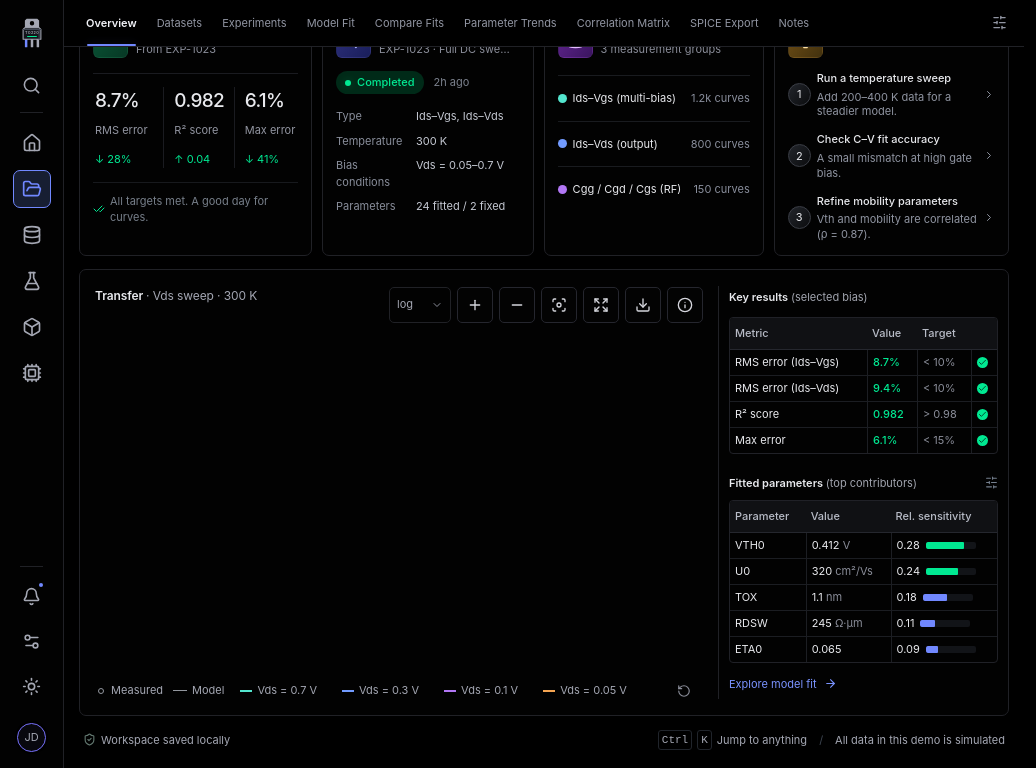
MOSFit workbench › toggles chart series and switches the chart scale
(page scrolled)
Step 1. Click the button "Vds = 0.7 V" → (279, 691), box 234,673 -> 323,709
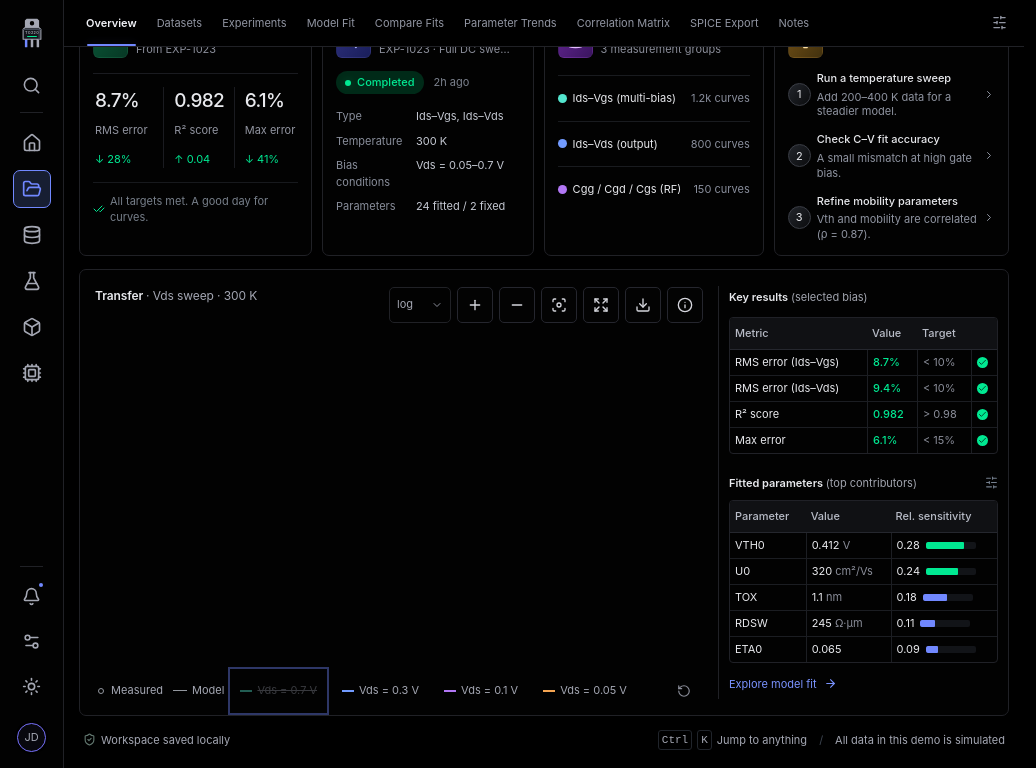
Expected: the button "Vds = 0.7 V" is not pressed
Step 2. Click the button "Vds = 0.7 V" → (279, 691), box 234,673 -> 323,709
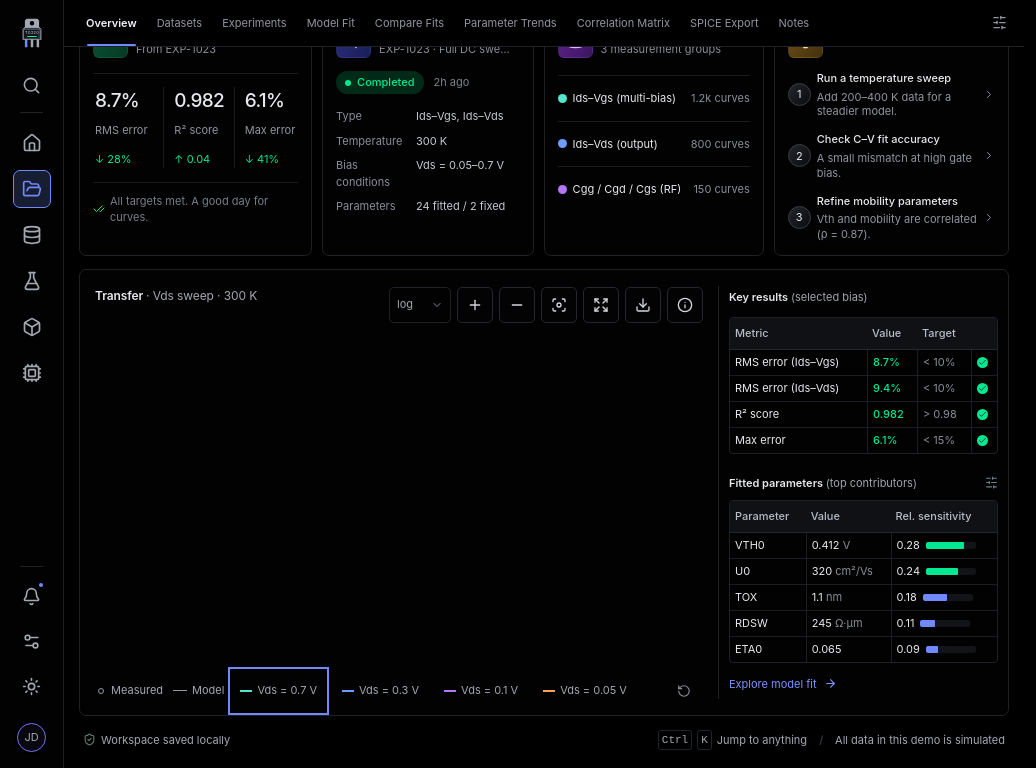
Expected: the button "Vds = 0.7 V" is pressed, 234,673 -> 323,709
Step 3. Click the dropdown named "Chart scale" → (420, 305), box 389,287 -> 451,323
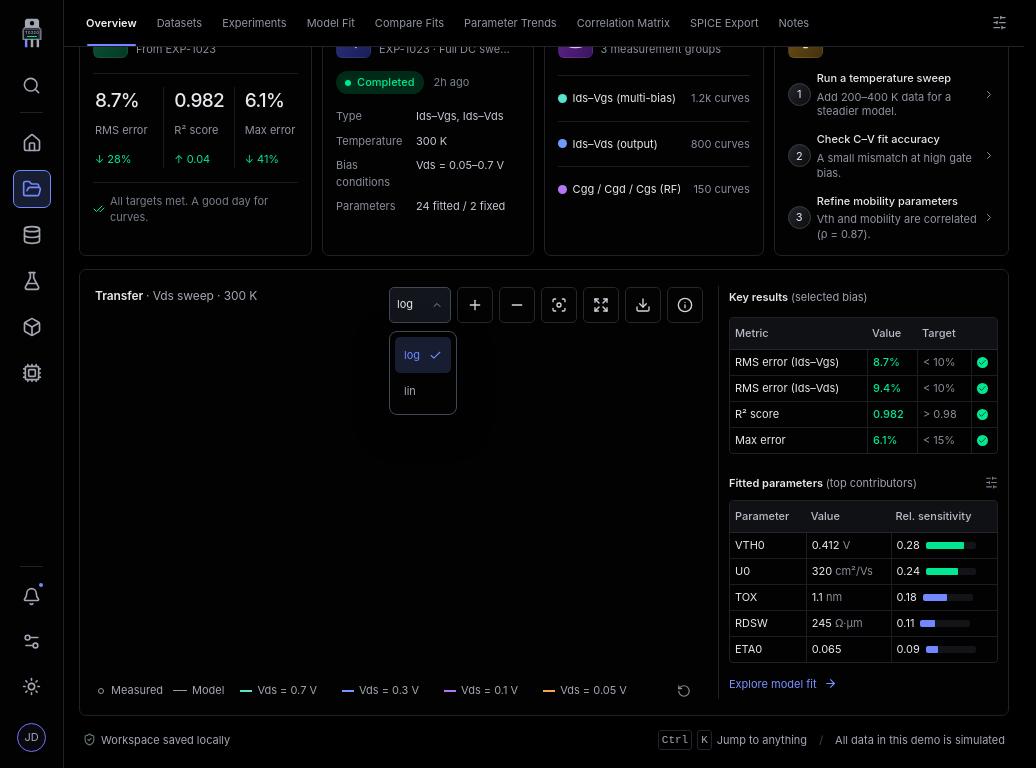
Step 4. Click the option "lin" → (410, 391), box 404,384 -> 416,398
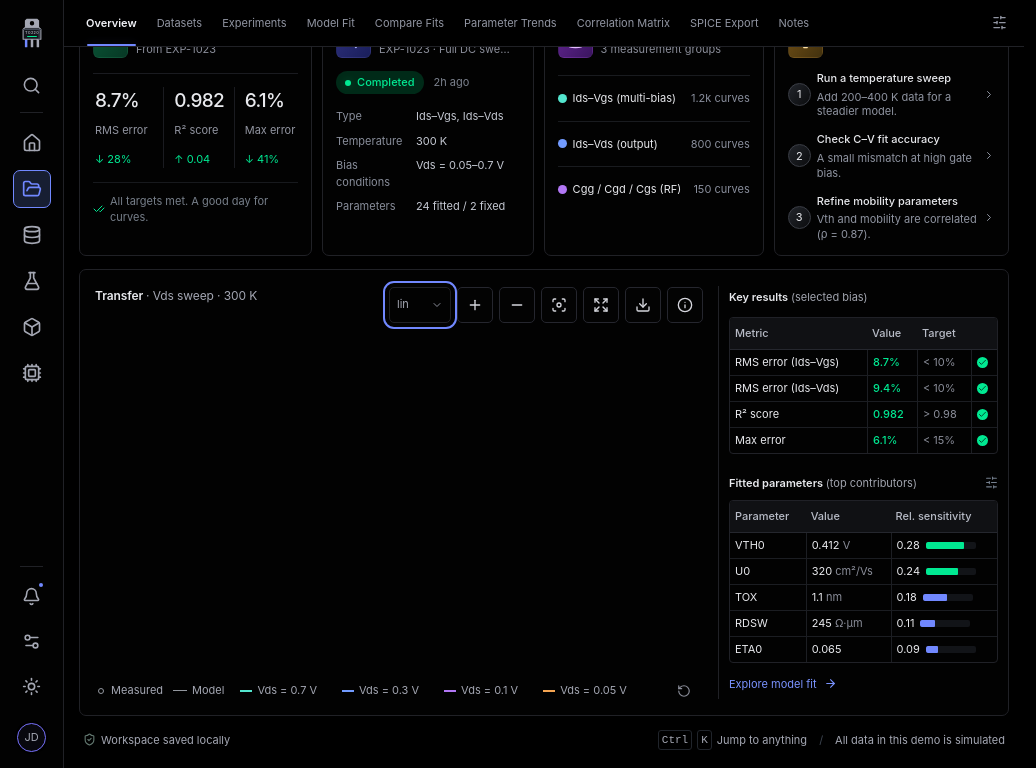
Expected: the dropdown named "Chart scale" reads "lin", 389,287 -> 451,323
Step 5. Click the button named "Reset chart" → (559, 305), box 541,287 -> 577,323
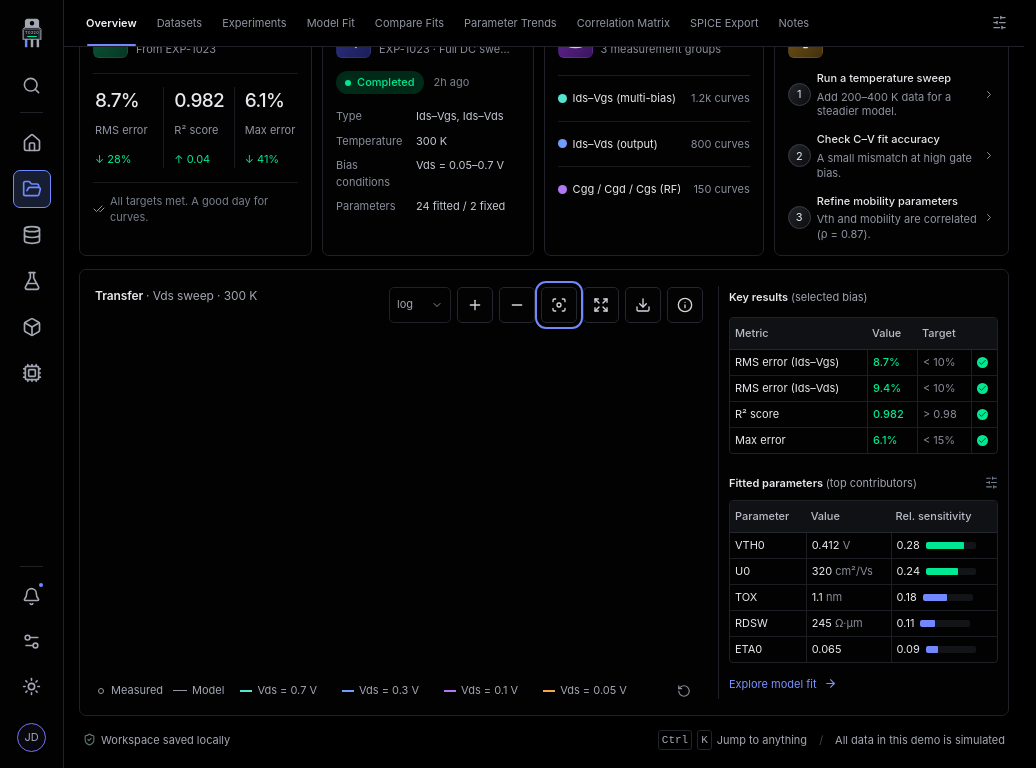
Expected: the dropdown named "Chart scale" reads "log", 389,287 -> 451,323
